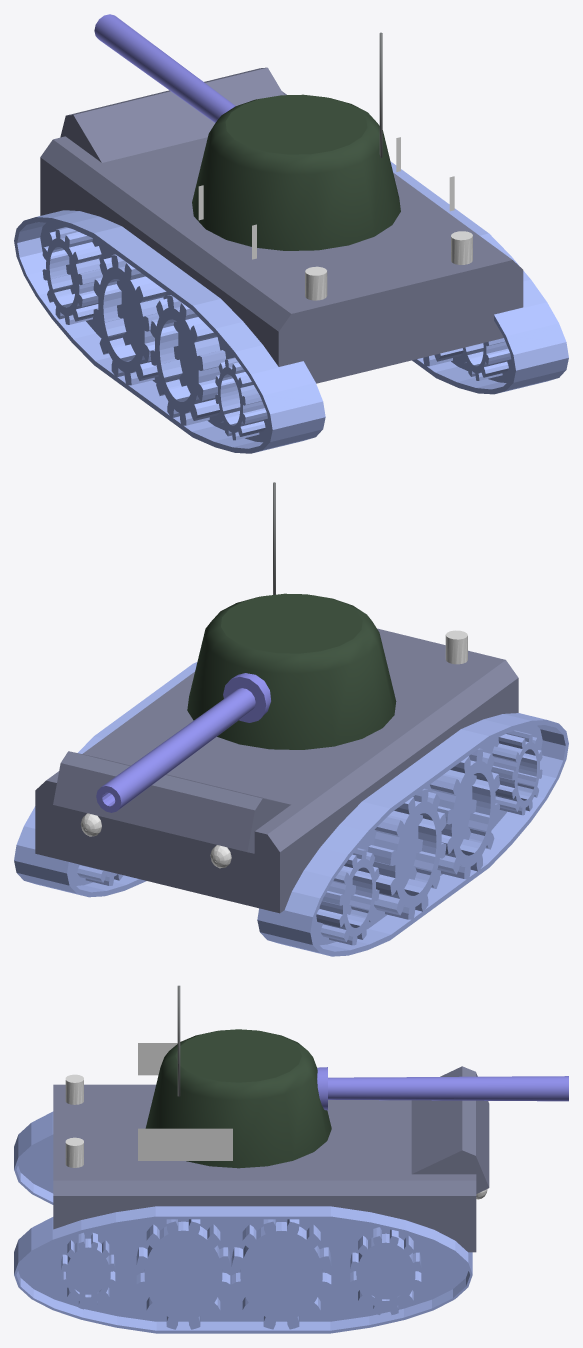
File: rhino_tank.glb
3 renders of one model, top to bottom at view 1: azimuth 30°, elevation 25°; view 2: azimuth 150°, elevation 25°; view 3: azimuth 270°, elevation 25°, orthographic. The views are drawn at different scales.
Visible parts, largest first — view 1: heavy_body, Turret.001, Cylinder.010, Cylinder.011, Gear.058, Gear.056, Cannon.001, Gear.055, Gear.057, Gear.060; view 2: heavy_body, Turret.001, Cylinder.010, Cannon.001, Gear.056, Gear.058, Cylinder.011, Gear.055, Gear.057; view 3: heavy_body, Cylinder.011, Turret.001, Cannon.001, Gear.061, Gear.059, Gear.062, Cylinder.010, Gear.060.
Boxes of the visible parts, box(x1,y1,x2,y2) form: heavy_body: box(40, 67, 523, 383); Turret.001: box(192, 32, 400, 250); Cylinder.010: box(14, 210, 325, 453); Cylinder.011: box(390, 161, 568, 394); Gear.058: box(150, 295, 225, 425); Gear.056: box(93, 254, 166, 385); Cannon.001: box(94, 14, 235, 122); Gear.055: box(42, 227, 102, 324); Gear.057: box(215, 357, 267, 440); Gear.060: box(462, 338, 511, 380); heavy_body: box(35, 595, 518, 913); Turret.001: box(187, 482, 396, 749); Cylinder.010: box(257, 713, 568, 956); Cannon.001: box(96, 673, 270, 812); Gear.056: box(368, 788, 446, 919); Gear.058: box(430, 748, 499, 879); Cylinder.011: box(14, 662, 197, 897); Gear.055: box(316, 848, 379, 945); Gear.057: box(491, 730, 542, 815); heavy_body: box(53, 1043, 489, 1252); Cylinder.011: box(14, 1206, 472, 1333); Turret.001: box(145, 985, 331, 1168); Cannon.001: box(317, 1067, 568, 1110); Gear.061: box(231, 1219, 331, 1329); Gear.059: box(136, 1219, 230, 1329); Gear.062: box(350, 1227, 421, 1314); Cylinder.010: box(14, 1111, 53, 1204); Gear.060: box(61, 1232, 115, 1309).
Bounding box in the file's own units: 3.84 × 4.27 × 7.02.
